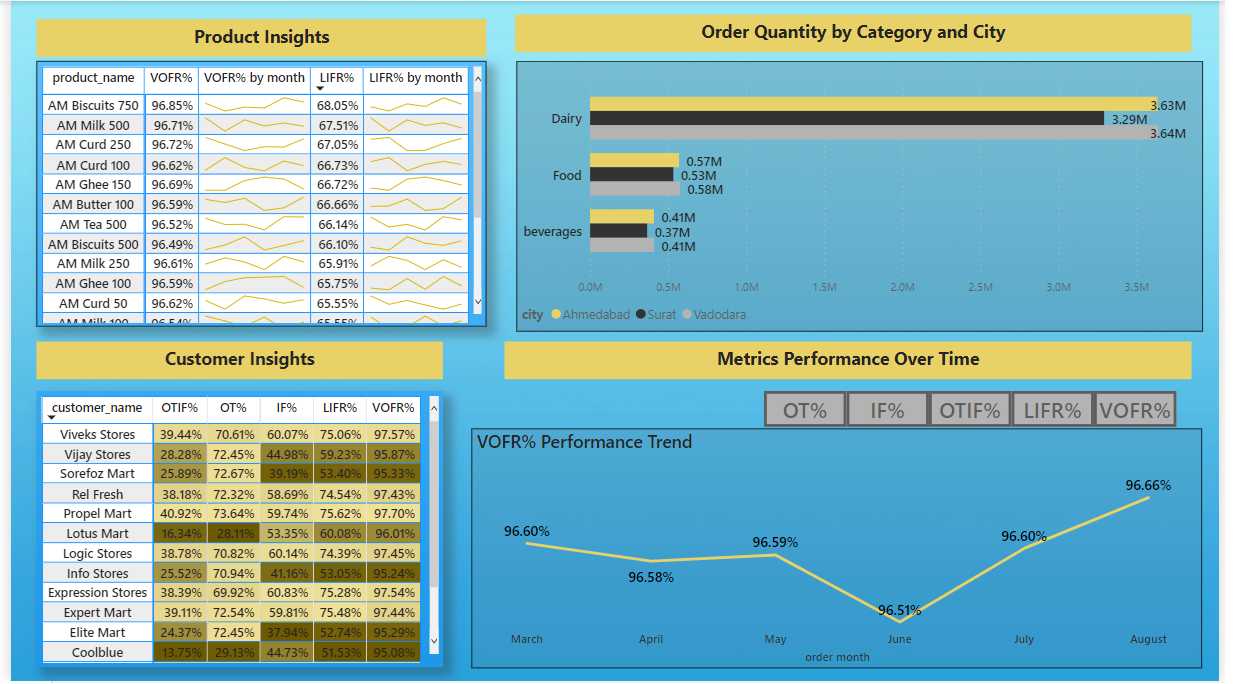

What the dashboard file says about the page in this screenshot:
{"tool":"powerbi","page":{"name":"Page 2","canvas":[1280,720],"ordinal":1},"visuals":[{"type":"pivotTable","fields":{"Rows":["dim_customers.customer_name"],"Values":["dim_customers.OTIF%","dim_customers.OT%","dim_customers.IF%","dim_customers.LIFR%","dim_customers.VOFR%"]},"box":[27,413.2,430.7,292.5],"z":0},{"type":"pivotTable","fields":{"Rows":["dim_products.product_name"],"Values":["dim_customers.VOFR%","SparklineData(dim_customers.VOFR%_[fact_order_lines.order month])","dim_customers.LIFR%","SparklineData(dim_customers.LIFR%_[fact_order_lines.order month])"]},"box":[27,63.6,476.8,281.3],"z":1000},{"type":"clusteredBarChart","fields":{"Category":["dim_products.category"],"Y":["Sum(fact_order_lines.order_qty)"],"Series":["dim_customers.city"]},"box":[536.4,63,727.4,286.5],"z":3000},{"type":"actionButton","box":[885.3,413.2,87.4,38.1],"z":4000},{"type":"actionButton","box":[972.7,413.2,87.4,38.1],"z":5000},{"type":"actionButton","box":[1060.1,413.2,87.4,38.1],"z":6000},{"type":"actionButton","box":[1147.5,413.2,87.4,38.1],"z":7000},{"type":"actionButton","box":[797.9,413.2,87.4,38.1],"z":8000},{"type":"textbox","box":[27,19.1,476.8,39.7],"z":9000},{"type":"textbox","box":[27,360.8,430.7,39.7],"z":10000},{"type":"textbox","box":[534,14.3,716.8,40],"z":11000},{"type":"textbox","box":[522.9,360.8,727.9,39.7],"z":12000},{"type":"lineChart","title":"LIFR% Performance Trend","fields":{"Y":["dim_customers.LIFR%"],"Category":["fact_order_lines.order month","fact_order_lines.Day"]},"box":[489.7,451,774.1,254],"z":15000}]}

Visuals, with their boxes in screenshot pixels (x1, y1, x2, y2), scaled from the page's 1280x720 canvas onto the 1236x684 screenshot:
pivotTable - dim_customers.customer_name x dim_customers.OTIF%: <box>26,393,442,670</box>
pivotTable - dim_products.product_name x dim_customers.VOFR%: <box>26,60,486,328</box>
clusteredBarChart - dim_products.category x Sum(fact_order_lines.order_qty): <box>518,60,1220,332</box>
actionButton: <box>855,393,939,429</box>
actionButton: <box>939,393,1024,429</box>
actionButton: <box>1024,393,1108,429</box>
actionButton: <box>1108,393,1192,429</box>
actionButton: <box>770,393,855,429</box>
textbox: <box>26,18,486,56</box>
textbox: <box>26,343,442,380</box>
textbox: <box>516,14,1208,52</box>
textbox: <box>505,343,1208,380</box>
"LIFR% Performance Trend" lineChart: <box>473,428,1220,670</box>
